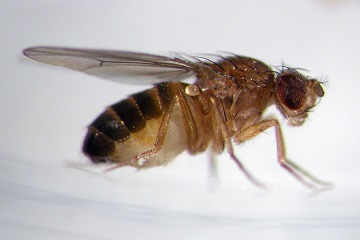house fly: (21, 40, 340, 205)
